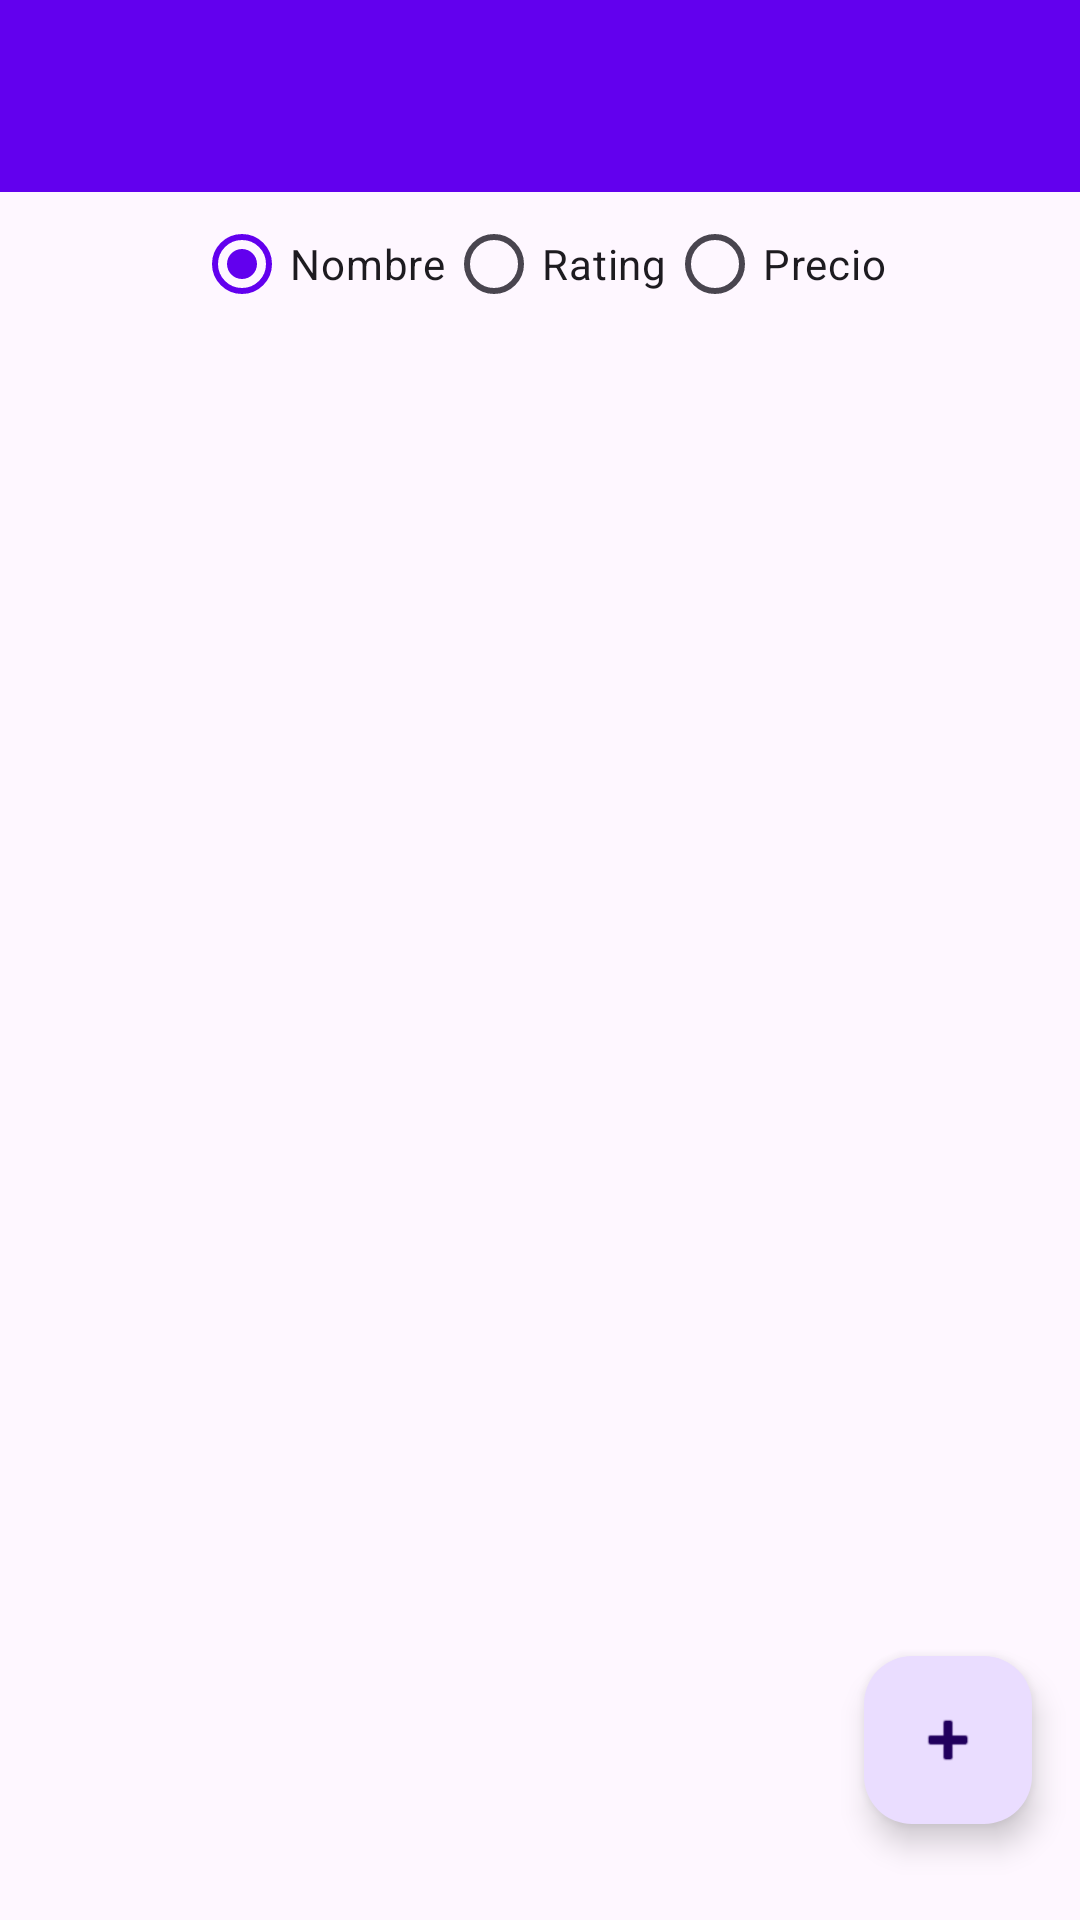

Where icons sit on this 1080w x 1920h app screen, as (x1, y1, x2, y2):
add: (864, 1656, 1032, 1824)
